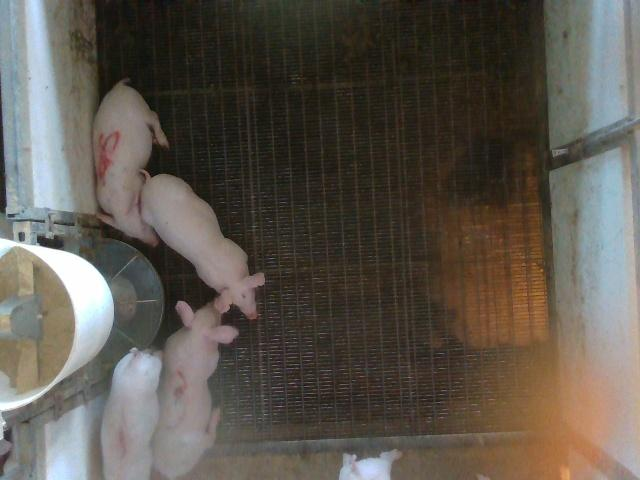pig-1: (104, 349, 162, 478)
pig-3: (152, 301, 239, 478)
pig-5: (92, 79, 169, 246)
